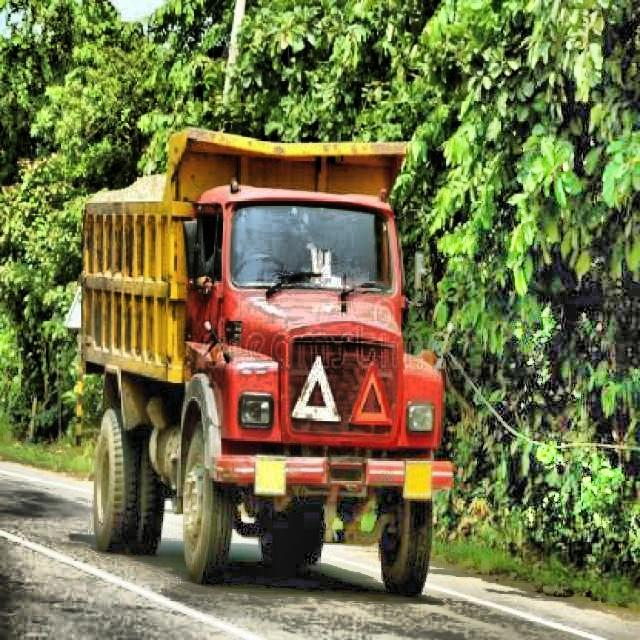dump_truck: (69, 113, 457, 602)
